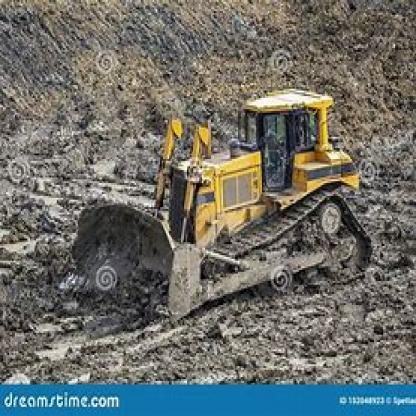bull_dozer/loader/grader: (60, 72, 380, 322)
